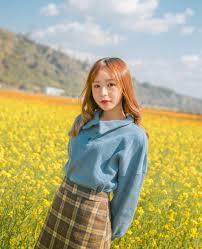people: (34, 58, 147, 249)
